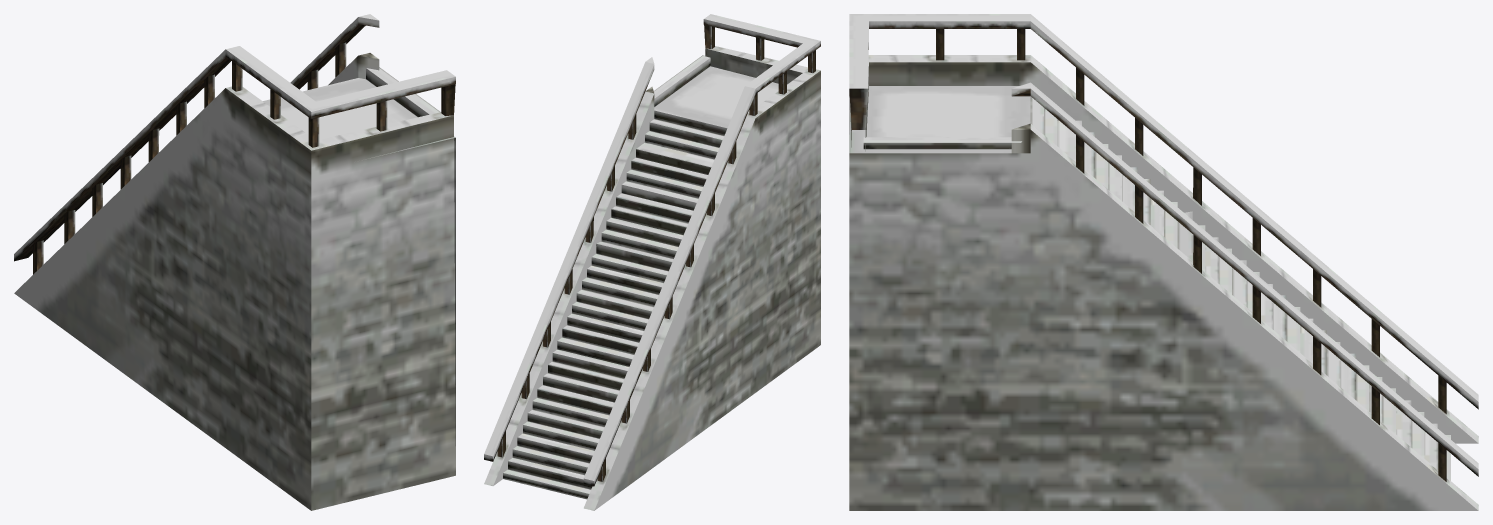
The model's file is general_obj_watchtower03-01.fbx.
3 renders of one model, left to right at view 1: azimuth 30°, elevation 25°; view 2: azimuth 150°, elevation 25°; view 3: azimuth 270°, elevation 25°, orthographic. The views are drawn at different scales.
Visible parts, largest first — view 1: Sphere01; view 2: Sphere01; view 3: Sphere01.
Boxes of the visible parts, box(x1,y1,x2,y2) form: Sphere01: box(14, 14, 455, 510); Sphere01: box(484, 14, 820, 510); Sphere01: box(849, 14, 1478, 510).
Size of the model in its own units: 2.91 by 7.49 by 10.12.
